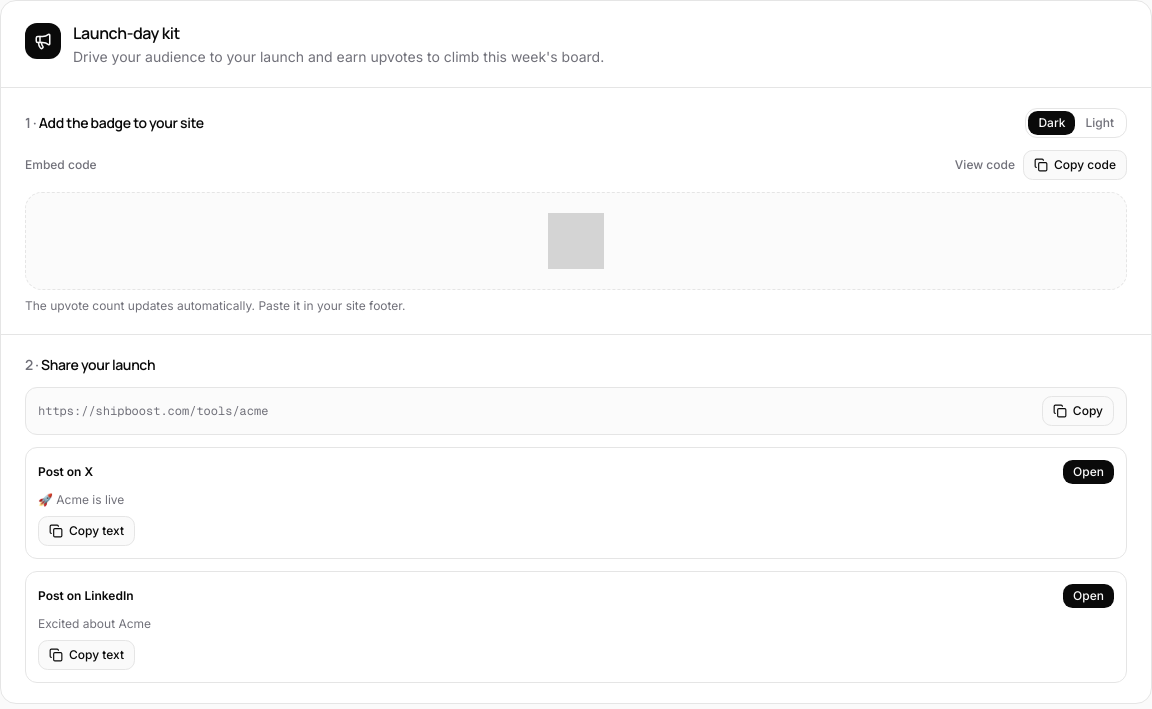
Test: FounderLaunchKitCard › renders the listing url and share text, and reveals the dark snippet via View code
The image size is (1152, 709).
Expected: the text "https://shipboost.com/tools/acme" is shown, [38,403,268,419]
Expected: the text "🚀 Acme is live" is shown, [38,492,124,507]
Click the button "View code". click: click(985, 165)
box: [955,157,1015,173]
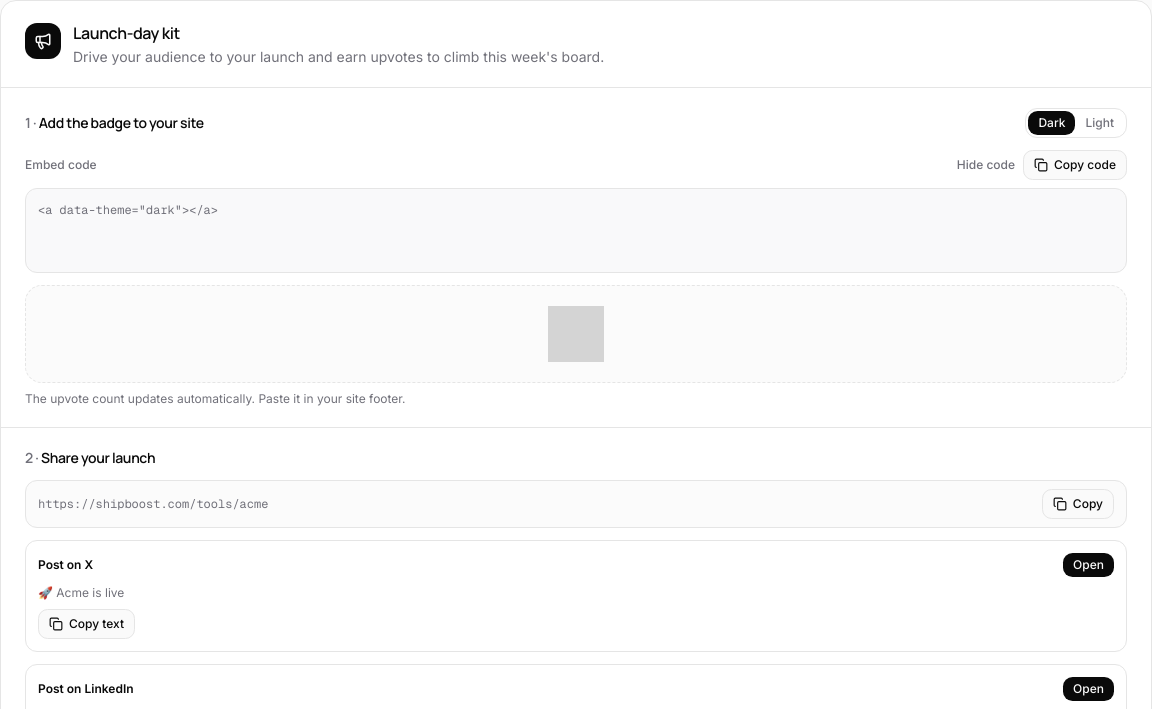
Now the text box named "badge embed code" holds "<a data-theme=\"dark\"></a>", box [25,188,1127,272]
